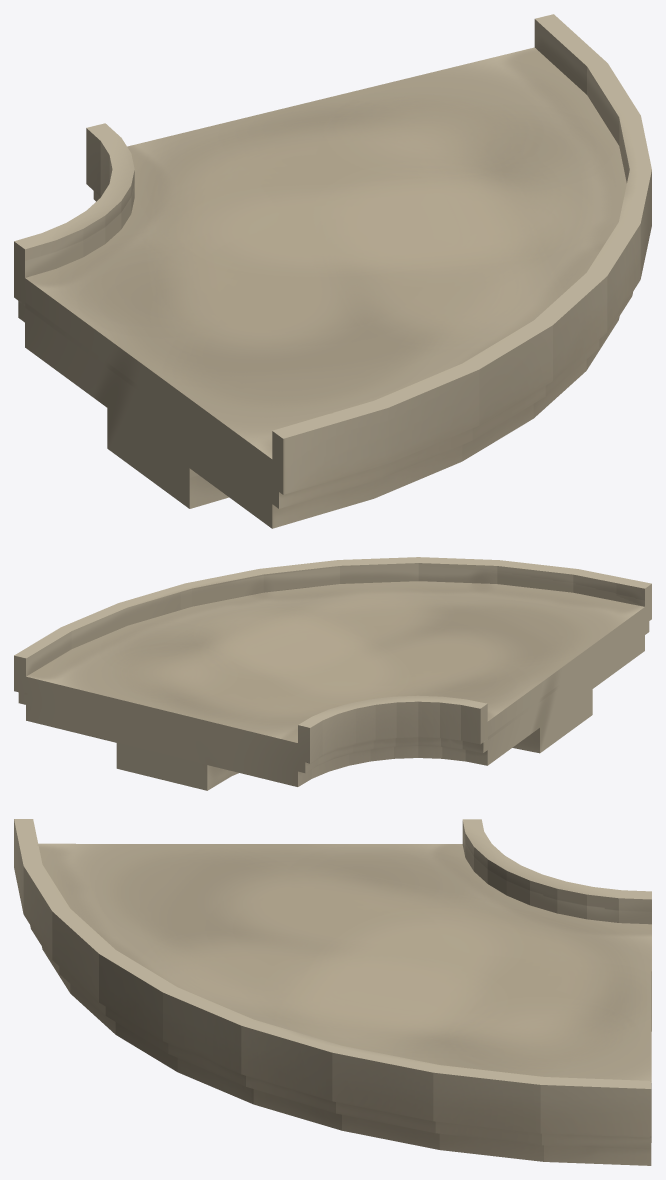
File: bridge_corner.fbx
3 renders of one model, top to bottom at view 1: azimuth 30°, elevation 25°; view 2: azimuth 150°, elevation 25°; view 3: azimuth 270°, elevation 25°, orthographic. The views are drawn at different scales.
Parts seen in each view (by area): view 1: bridge_corner; view 2: bridge_corner; view 3: bridge_corner.
Part boxes in pixels (<box>): bridge_corner: <box>14,14,651,528</box>; bridge_corner: <box>14,557,651,790</box>; bridge_corner: <box>14,819,651,1165</box>.
Bounding box in the file's own units: 449 × 93.27 × 448.
